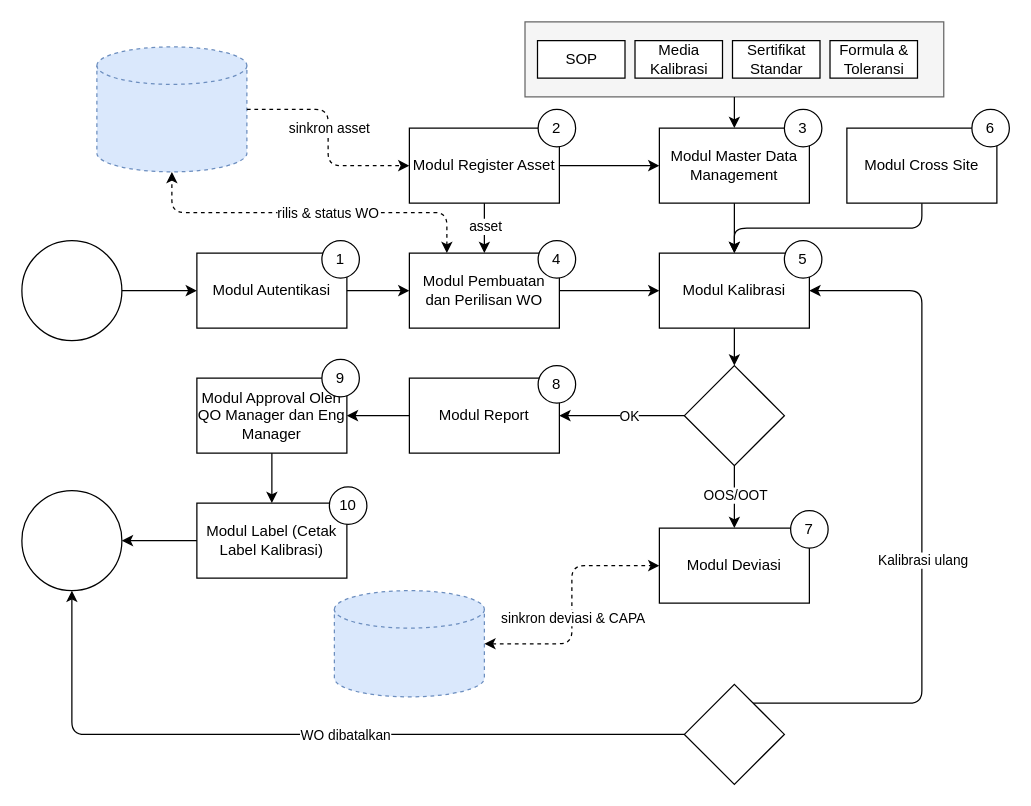
This 1031x806 diagram has some shape labels left out. Each missing label, with the centre of its shape:
"Hasil Kalibrasi" belongs at point 733,415.
"Mulai" belongs at point 71,290.
"Oracle EBS EAM (System of Record: Asset & WO)" belongs at point 171,109.
"QMS (Deviation & CAPA)" belongs at point 408,643.
"Selesai" belongs at point 71,540.
"Tindak Lanjut?" belongs at point 733,733.
